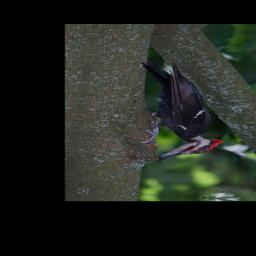Woodpecker: (124, 58, 239, 165)
